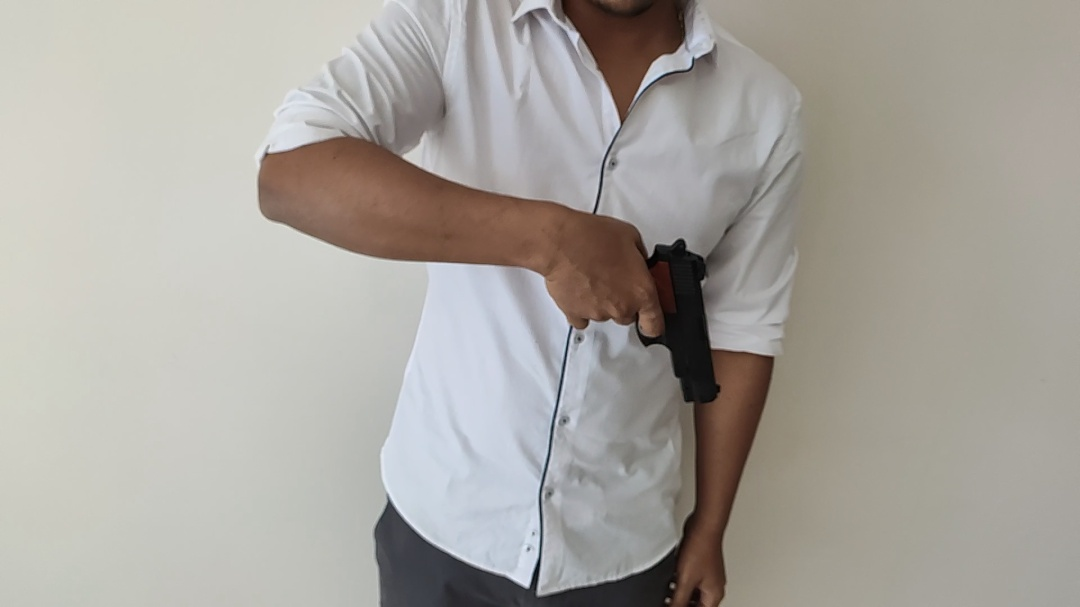gun: (635, 237, 721, 404)
